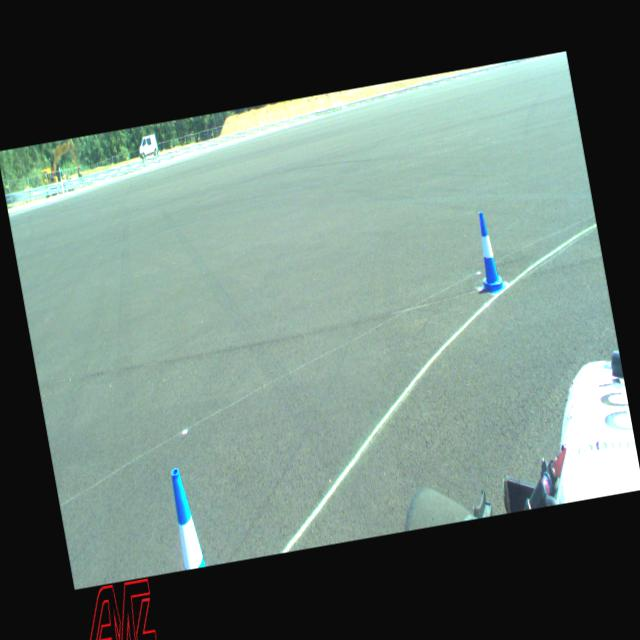blue_cone: (164, 464, 207, 570), (468, 210, 508, 296)
